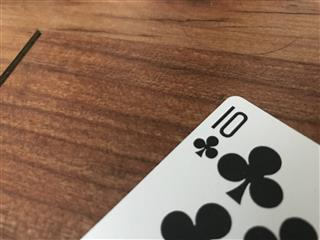TenOfClubs: (77, 93, 320, 240)
